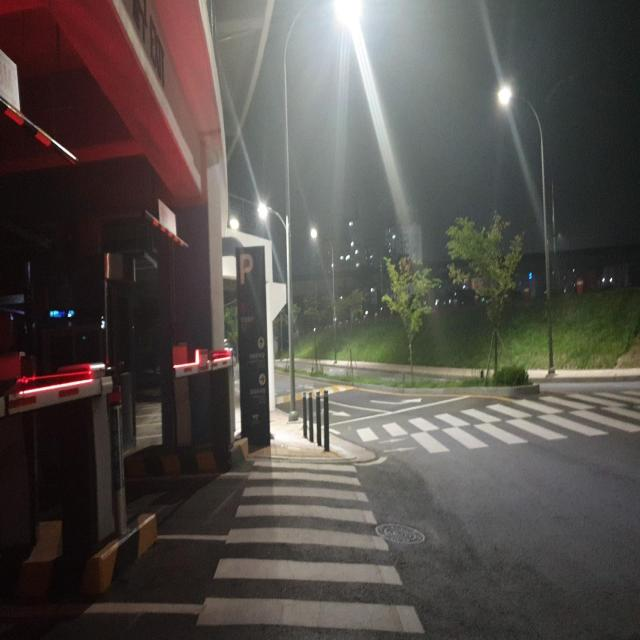횡단보도: (195, 456, 428, 636), (350, 390, 640, 446)
